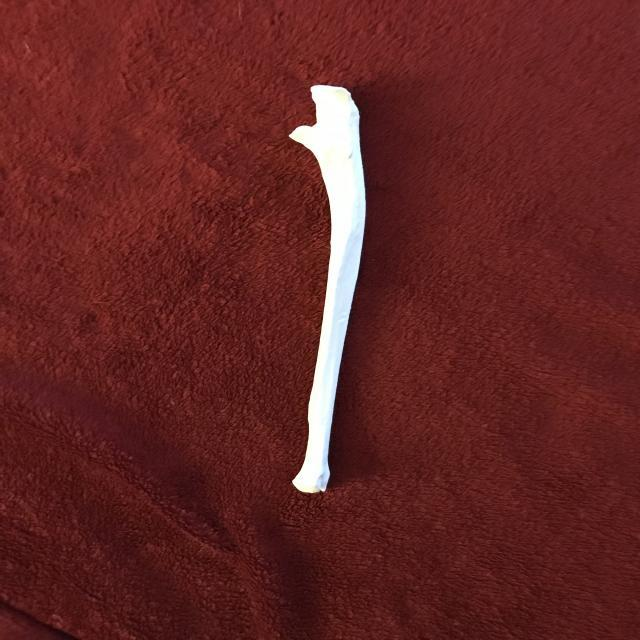bone: (276, 81, 376, 500)
